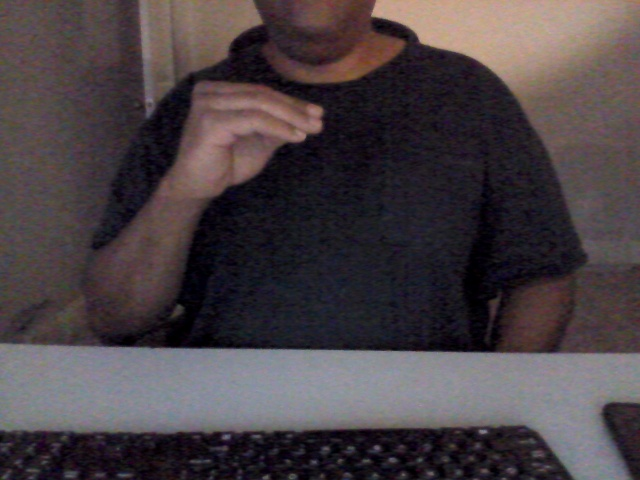eat: (176, 73, 327, 210)
